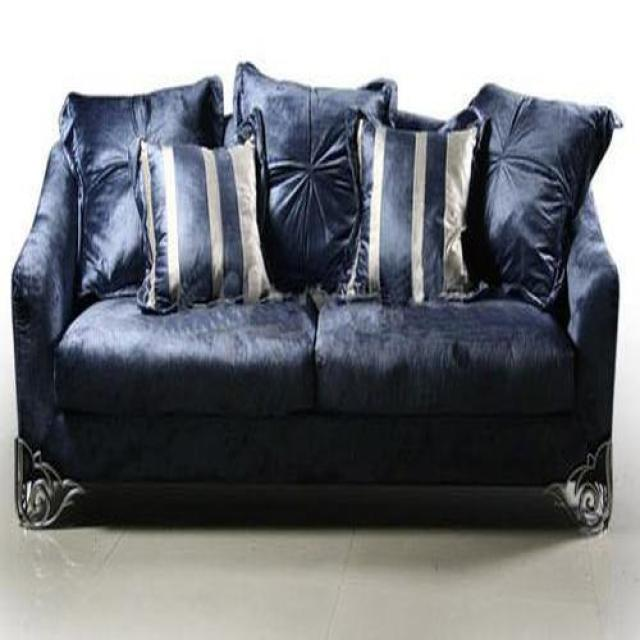sofa: (9, 61, 622, 541)
